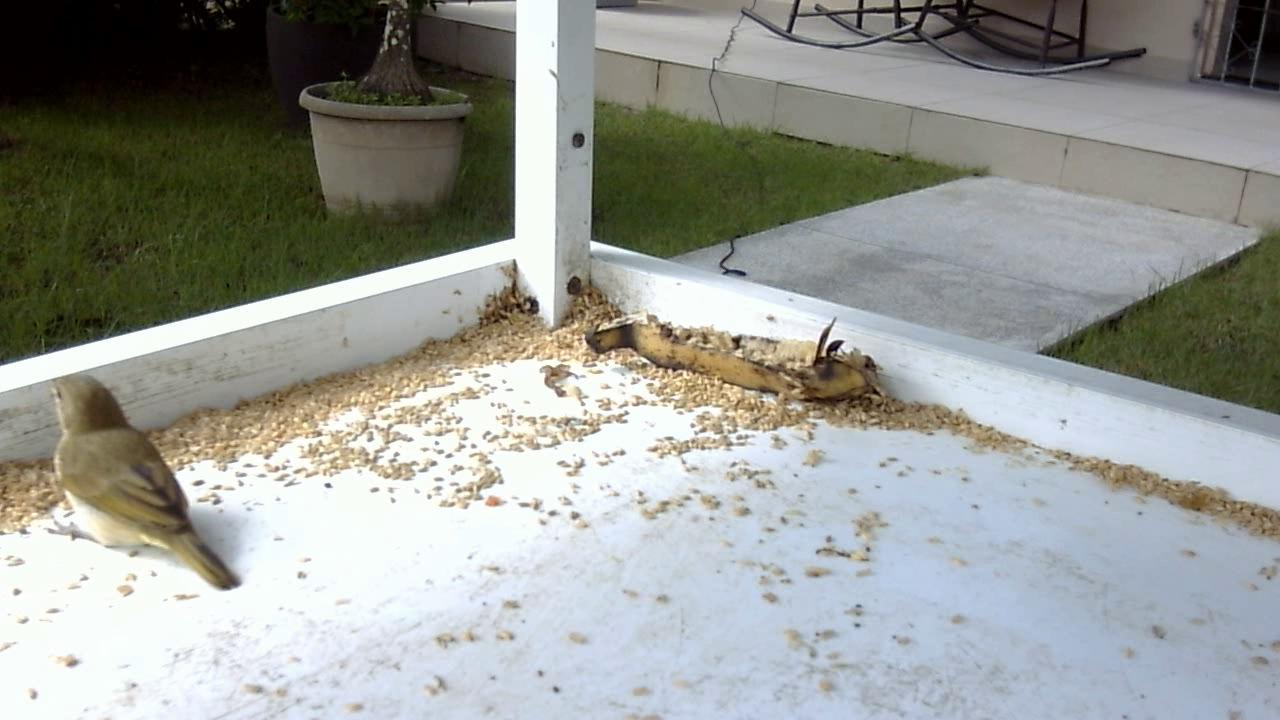canario_do_amazonas: (40, 371, 245, 592)
